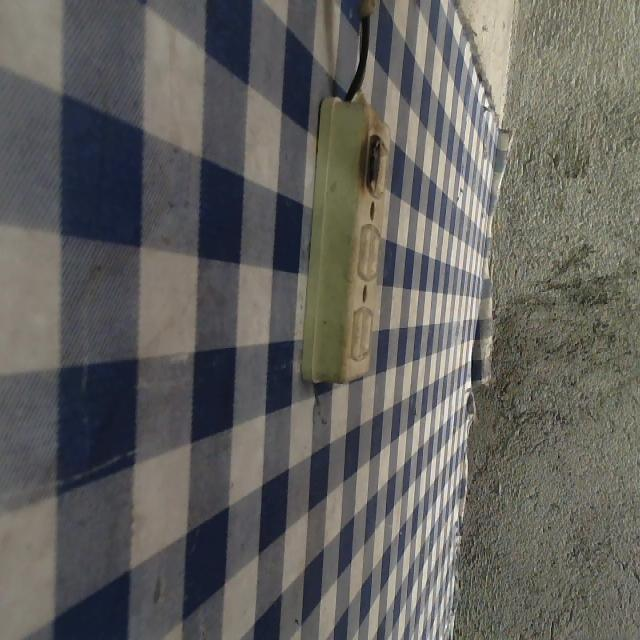-: (361, 132, 386, 203)
